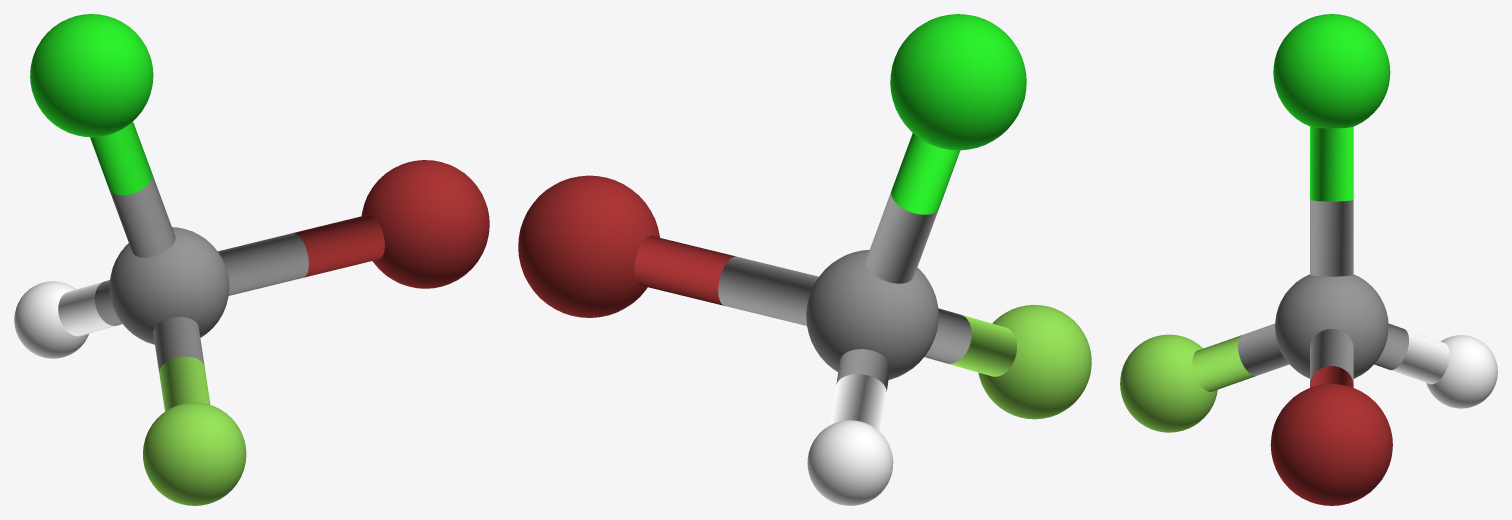
The model's file is Bromochlorofluoromethane.obj.
The picture shows the model from 3 angles, left to right: view 1: azimuth 30°, elevation 25°; view 2: azimuth 150°, elevation 25°; view 3: azimuth 270°, elevation 25°; orthographic projection. The views are drawn at different scales.
Visible parts, largest first — view 1: Br1_Atom, Cl2_Atom, C4_Atom, F3_Atom, Cylinder8, Cylinder7, H5_Atom, Cylinder6, Cylinder5, Cylinder3, Cylinder4, Cylinder2 (+1 smaller); view 2: Br1_Atom, Cl2_Atom, C4_Atom, F3_Atom, H5_Atom, Cylinder8, Cylinder7, Cylinder6, Cylinder5, Cylinder3, Cylinder2, Cylinder4 (+1 smaller); view 3: Br1_Atom, Cl2_Atom, C4_Atom, F3_Atom, H5_Atom, Cylinder6, Cylinder5, Cylinder3, Cylinder2, Cylinder4, Cylinder8, Cylinder1 (+1 smaller).
Part boxes in pixels (<box>): Br1_Atom: <box>361,160,489,288</box>; Cl2_Atom: <box>30,14,153,137</box>; C4_Atom: <box>109,227,229,344</box>; F3_Atom: <box>143,402,246,505</box>; Cylinder8: <box>218,233,308,295</box>; Cylinder7: <box>292,214,384,277</box>; H5_Atom: <box>14,281,88,358</box>; Cylinder6: <box>109,174,175,257</box>; Cylinder5: <box>90,121,152,195</box>; Cylinder3: <box>159,356,210,411</box>; Cylinder4: <box>153,317,204,372</box>; Cylinder2: <box>58,282,116,336</box>; Br1_Atom: <box>518,175,659,317</box>; Cl2_Atom: <box>890,14,1026,150</box>; C4_Atom: <box>806,249,938,379</box>; F3_Atom: <box>978,304,1091,419</box>; H5_Atom: <box>807,420,893,505</box>; Cylinder8: <box>718,256,818,325</box>; Cylinder7: <box>634,236,735,305</box>; Cylinder6: <box>865,192,938,283</box>; Cylinder5: <box>891,133,960,214</box>; Cylinder3: <box>948,314,1016,376</box>; Cylinder2: <box>830,374,886,432</box>; Cylinder4: <box>924,308,971,363</box>; Br1_Atom: <box>1270,384,1392,505</box>; Cl2_Atom: <box>1273,14,1390,128</box>; C4_Atom: <box>1275,274,1388,378</box>; F3_Atom: <box>1120,334,1217,432</box>; H5_Atom: <box>1426,335,1497,408</box>; Cylinder6: <box>1310,200,1353,276</box>; Cylinder5: <box>1310,126,1353,201</box>; Cylinder3: <box>1192,335,1255,391</box>; Cylinder2: <box>1390,329,1449,384</box>; Cylinder4: <box>1238,323,1289,375</box>; Cylinder8: <box>1310,329,1353,384</box>; Cylinder1: <box>1374,323,1408,369</box>.
Size of the model in its own units: 3.34 by 3.04 by 2.6.
